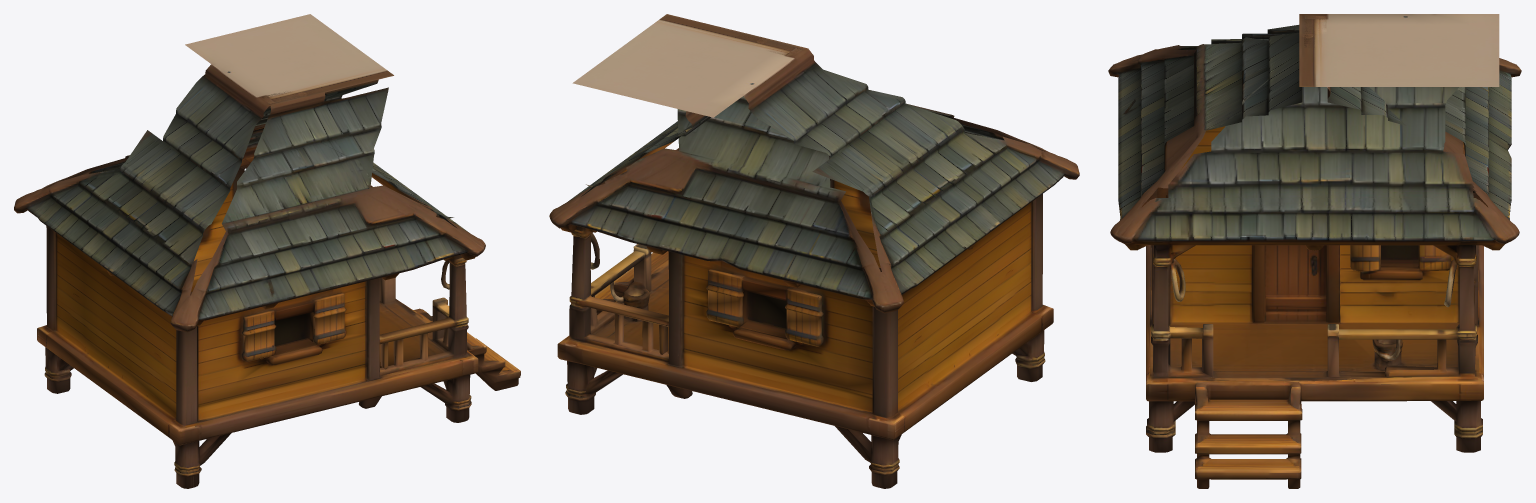
File: hut-stilt-shingle-v2-original.glb
3 renders of one model, left to right at view 1: azimuth 30°, elevation 25°; view 2: azimuth 150°, elevation 25°; view 3: azimuth 270°, elevation 25°, orthographic. The views are drawn at different scales.
Visible parts, largest first — view 1: tripo_node_eba01e66-cabf-4915-ad42-643a8e284c9d; view 2: tripo_node_eba01e66-cabf-4915-ad42-643a8e284c9d; view 3: tripo_node_eba01e66-cabf-4915-ad42-643a8e284c9d.
Boxes of the visible parts, left/top/right/bottom form: tripo_node_eba01e66-cabf-4915-ad42-643a8e284c9d: left=14, top=14, right=520, bottom=488; tripo_node_eba01e66-cabf-4915-ad42-643a8e284c9d: left=549, top=14, right=1079, bottom=488; tripo_node_eba01e66-cabf-4915-ad42-643a8e284c9d: left=1108, top=14, right=1521, bottom=488.
Bounding box in the file's own units: 0.9961 × 0.7593 × 0.7926.
1 material, 1 textured.
